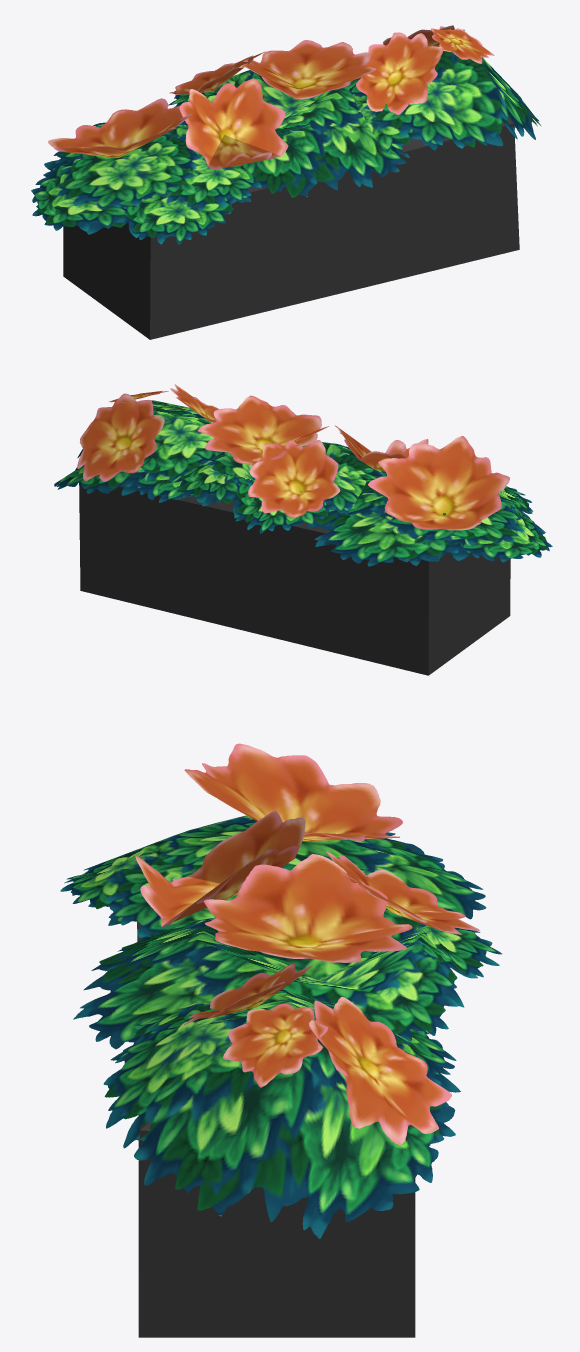
The model's file is SM_PROP_PLANT_pot_v1_02.FBX.
3 views of the same model, one above another, from view 1: azimuth 30°, elevation 25°; view 2: azimuth 150°, elevation 25°; view 3: azimuth 270°, elevation 25° (orthographic). The views are drawn at different scales.
Visible parts, largest first — view 1: SM_PROP_PLANT_pot_v1_02; view 2: SM_PROP_PLANT_pot_v1_02; view 3: SM_PROP_PLANT_pot_v1_02.
Part boxes in pixels (left/top/right/bottom): SM_PROP_PLANT_pot_v1_02: left=31, top=25, right=541, bottom=339; SM_PROP_PLANT_pot_v1_02: left=54, top=384, right=552, bottom=675; SM_PROP_PLANT_pot_v1_02: left=60, top=743, right=501, bottom=1337.
Bounding box in the file's own units: 105 × 59.85 × 40.04.
